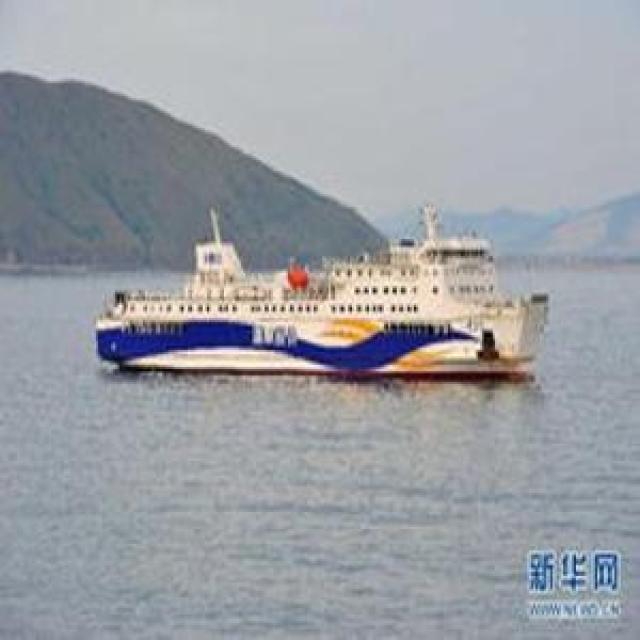passenger ship: (83, 206, 541, 384)
